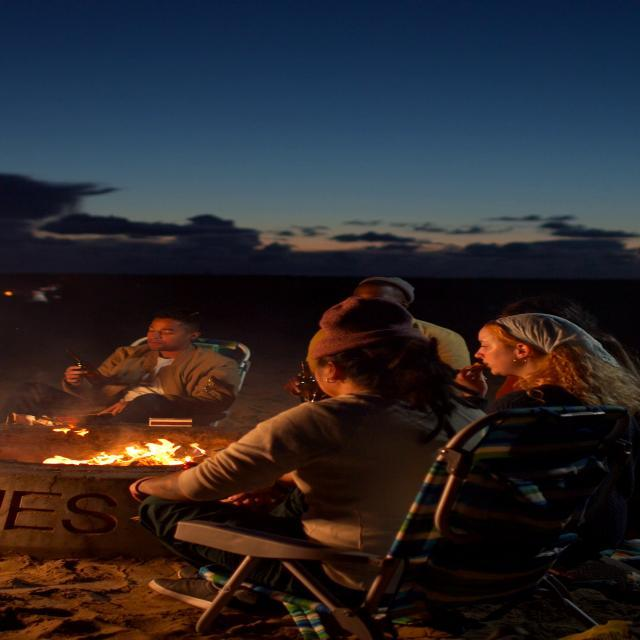Fire: (104, 431, 204, 465)
